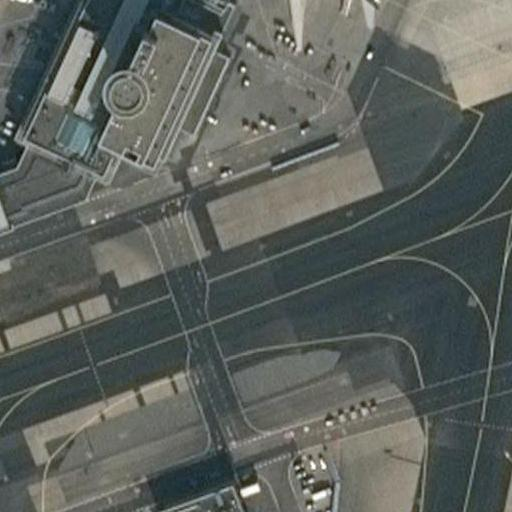Aircraft: (226, 0, 397, 53), (0, 0, 38, 18)
